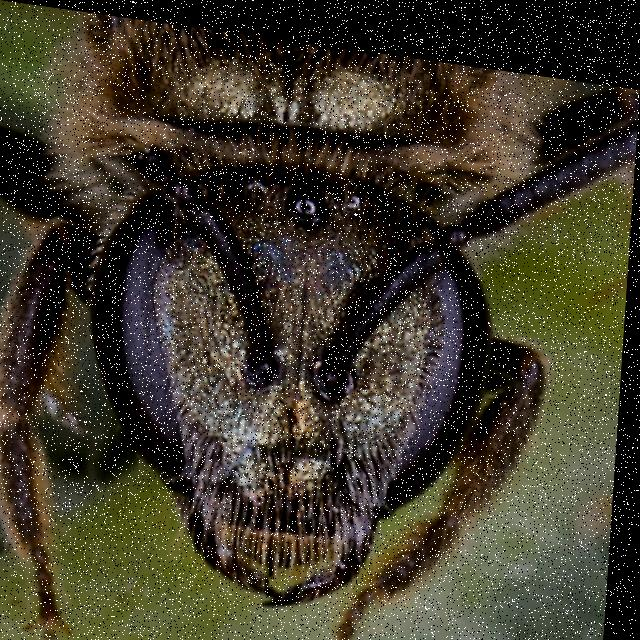Meliponula: (0, 3, 581, 640)
